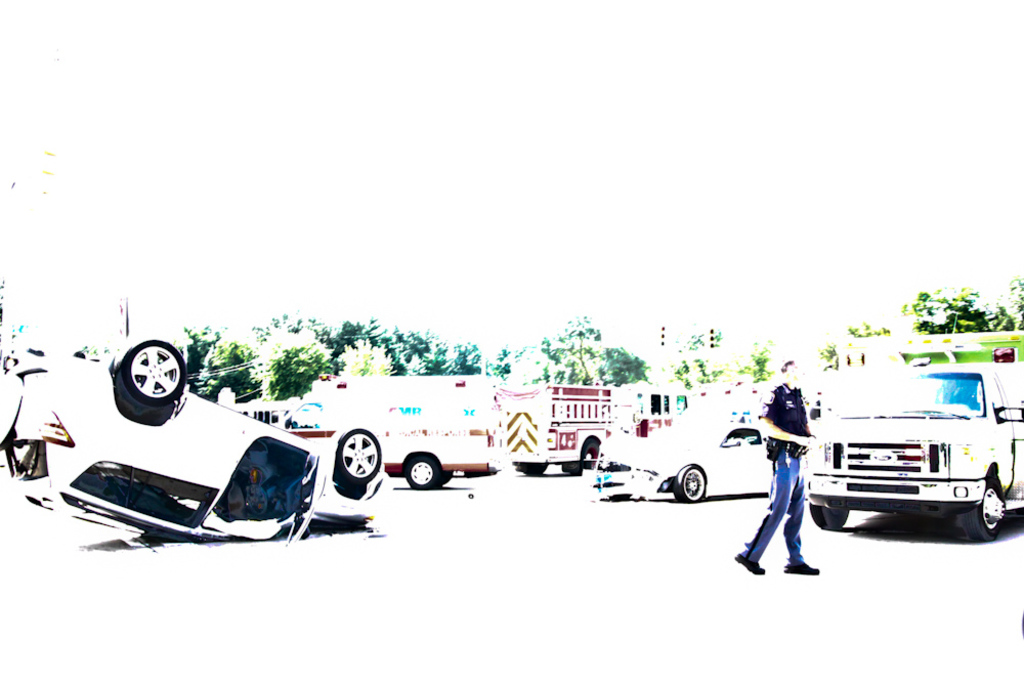Car: (0, 335, 387, 551), (797, 365, 1024, 556), (591, 408, 775, 503)
